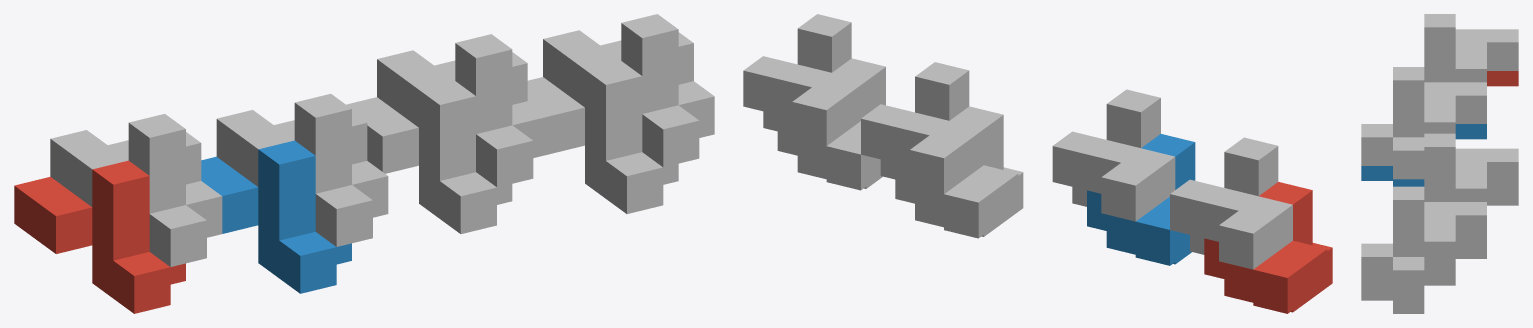
File: tiling.obj
The picture shows the model from 3 angles, left to right: view 1: azimuth 30°, elevation 25°; view 2: azimuth 150°, elevation 25°; view 3: azimuth 270°, elevation 25°; orthographic projection. The views are drawn at different scales.
Parts seen in each view (by area): view 1: copy_1_domain_1, copy_1_domain_4, copy_1_domain_3, copy_1_domain_7, copy_1_domain_8, copy_1_domain_5, copy_1_domain_6, copy_1_domain_2; view 2: copy_1_domain_7, copy_1_domain_4, copy_1_domain_8, copy_1_domain_3, copy_1_domain_5, copy_1_domain_1, copy_1_domain_2, copy_1_domain_6; view 3: copy_1_domain_8, copy_1_domain_4, copy_1_domain_7, copy_1_domain_3, copy_1_domain_6, copy_1_domain_2, copy_1_domain_1, copy_1_domain_5.
Boxes of the visible parts, x1,y1,x2,y2 form: copy_1_domain_1: [14, 160, 185, 313]; copy_1_domain_4: [216, 93, 388, 246]; copy_1_domain_3: [50, 114, 222, 266]; copy_1_domain_7: [377, 34, 548, 187]; copy_1_domain_8: [543, 14, 714, 167]; copy_1_domain_5: [346, 81, 512, 233]; copy_1_domain_6: [527, 61, 678, 213]; copy_1_domain_2: [201, 140, 351, 293]; copy_1_domain_7: [861, 62, 983, 193]; copy_1_domain_4: [1052, 89, 1175, 221]; copy_1_domain_8: [743, 14, 866, 145]; copy_1_domain_3: [1170, 137, 1292, 269]; copy_1_domain_5: [895, 106, 1023, 238]; copy_1_domain_1: [1204, 182, 1332, 313]; copy_1_domain_2: [1087, 134, 1195, 265]; copy_1_domain_6: [777, 58, 885, 190]; copy_1_domain_8: [1361, 186, 1486, 298]; copy_1_domain_4: [1361, 67, 1486, 179]; copy_1_domain_7: [1424, 133, 1518, 201]; copy_1_domain_3: [1424, 14, 1518, 82]; copy_1_domain_6: [1361, 243, 1486, 313]; copy_1_domain_2: [1361, 124, 1486, 186]; copy_1_domain_1: [1487, 71, 1518, 86]; copy_1_domain_5: [1487, 190, 1518, 205].
Size of the model in its own units: 17 by 4 by 5.
